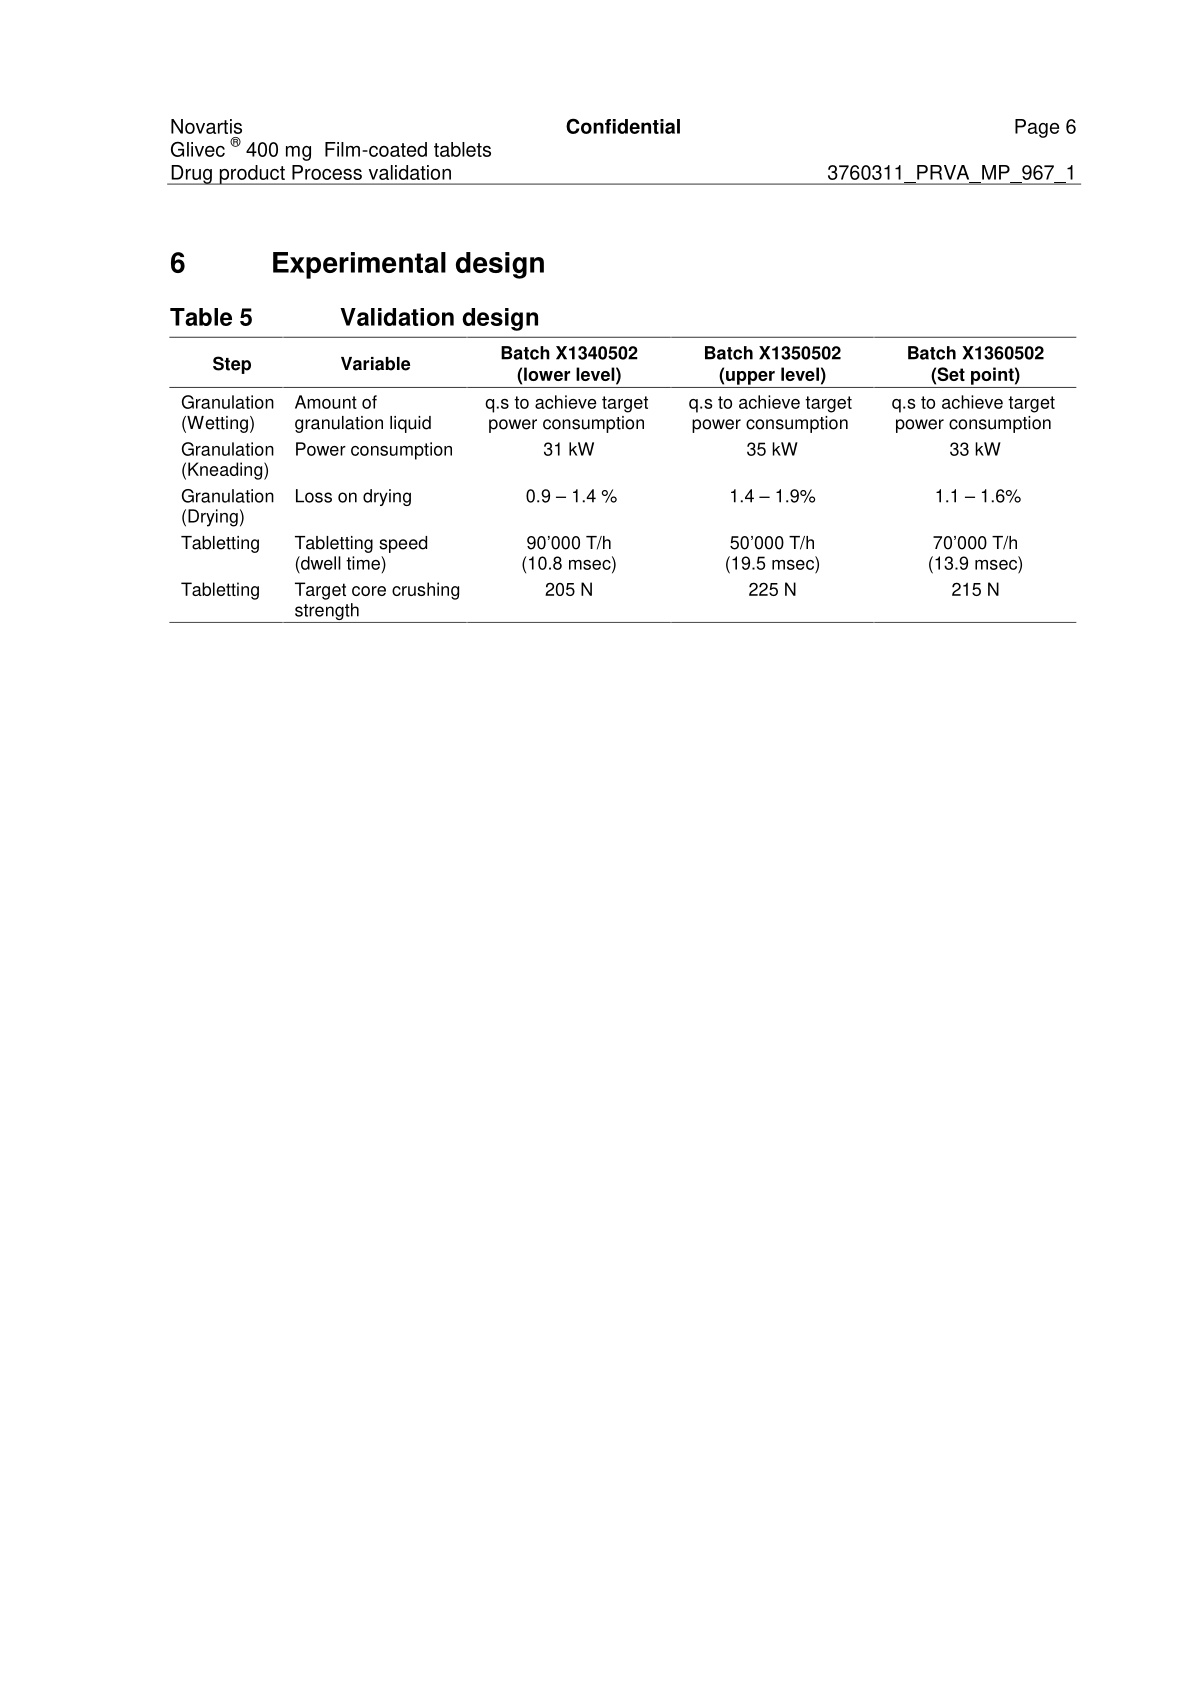partial_lined: (169, 333, 1078, 624)
